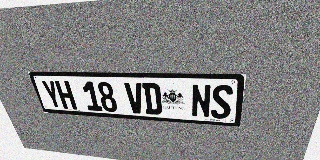1: (80, 81, 103, 111)
8: (96, 82, 118, 112)
D: (142, 83, 162, 115)
H: (54, 81, 77, 110)
N: (191, 84, 211, 118)
S: (211, 84, 233, 119)
V: (124, 82, 145, 114)
Y: (40, 80, 64, 109)
